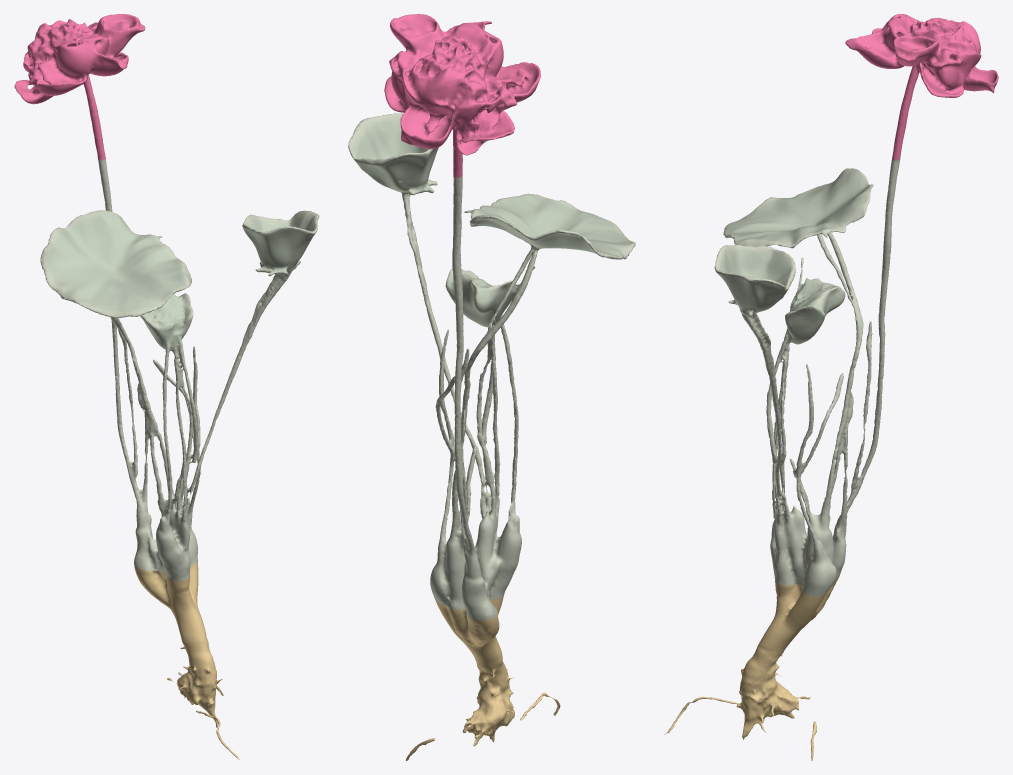
File: lotus-main-parts.glb
The picture shows the model from 3 angles, left to right: view 1: azimuth 30°, elevation 25°; view 2: azimuth 150°, elevation 25°; view 3: azimuth 270°, elevation 25°; orthographic projection. The views are drawn at different scales.
Parts seen in each view (by area): view 1: stem, leaf, flower, root, core; view 2: stem, flower, leaf, root, core; view 3: stem, leaf, flower, root, core.
Part boxes in pixels (x1,y1,x2,y2): stem: (40,159,319,581); leaf: (47,213,314,354); flower: (14,14,145,160); root: (134,561,239,759); core: (52,19,93,104); stem: (348,113,635,620); flower: (384,14,540,177); leaf: (355,117,628,362); root: (405,595,560,760); core: (432,36,482,69); stem: (714,159,899,596); leaf: (718,173,880,343); flower: (845,14,998,160); root: (664,576,839,760); core: (905,18,947,105).
Bounding box in the file's own units: 0.7648 × 1.98 × 0.8669.
